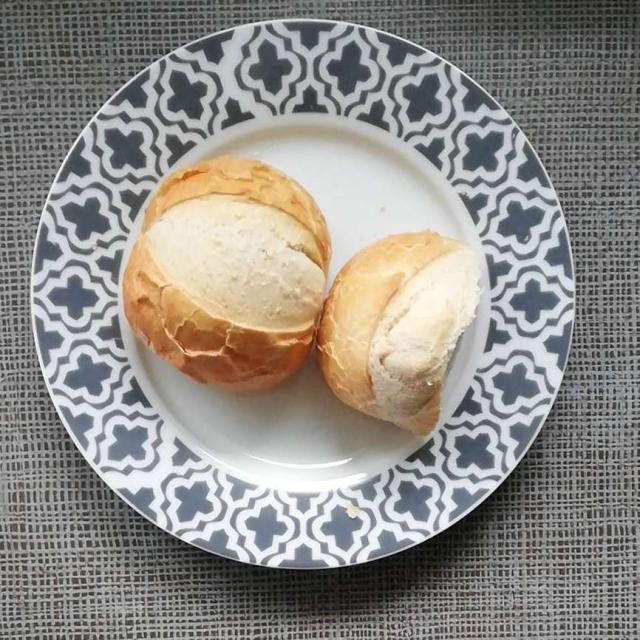bread: (133, 173, 321, 384), (344, 236, 472, 424)
